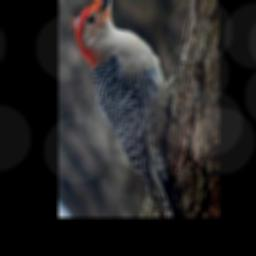Woodpecker: (69, 0, 183, 216)
